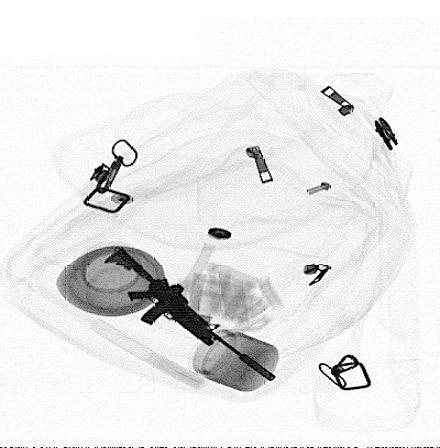Gun: (102, 246, 277, 382)
